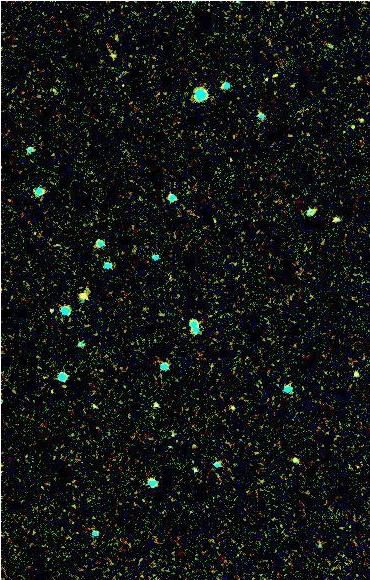star: (215, 392, 245, 422)
